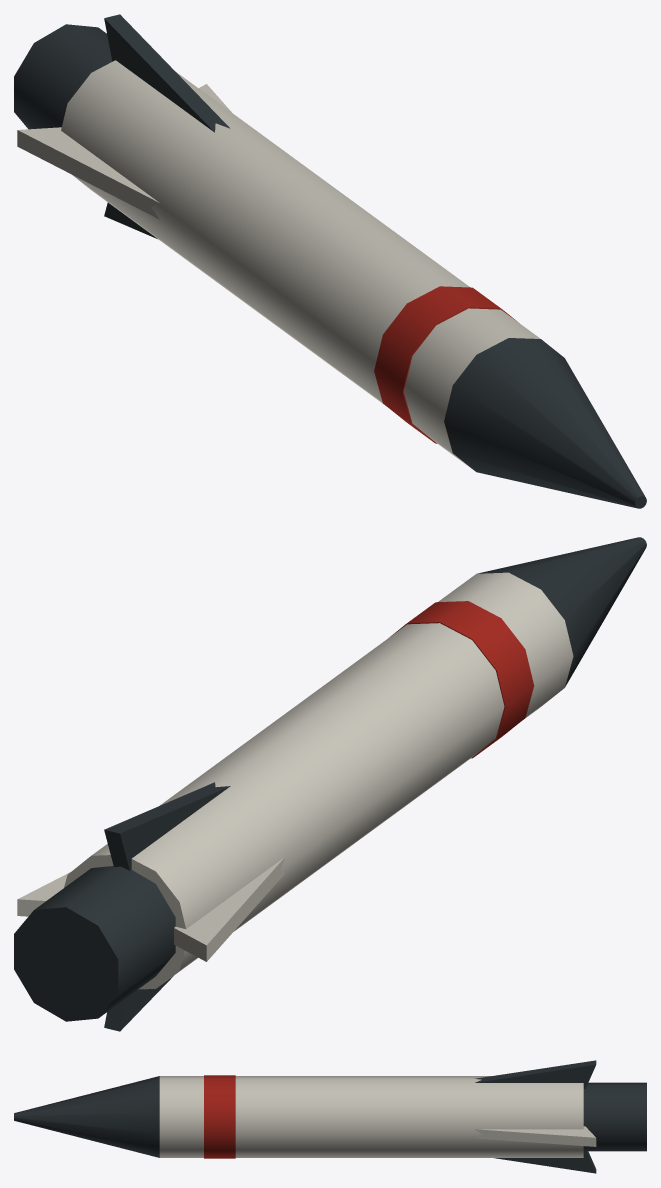
3 views of the same model, one above another, from view 1: azimuth 30°, elevation 25°; view 2: azimuth 150°, elevation 25°; view 3: azimuth 270°, elevation 25° (orthographic). The views are drawn at different scales.
Visible parts, largest first — view 1: missile-cell-painted; view 2: missile-cell-painted; view 3: missile-cell-painted.
Boxes of the visible parts, box(x1,y1,x2,y2) form: missile-cell-painted: box(14, 14, 646, 508); missile-cell-painted: box(14, 537, 646, 1031); missile-cell-painted: box(14, 1060, 646, 1173).
Bounding box in the file's own units: 0.95 × 0.95 × 5.
